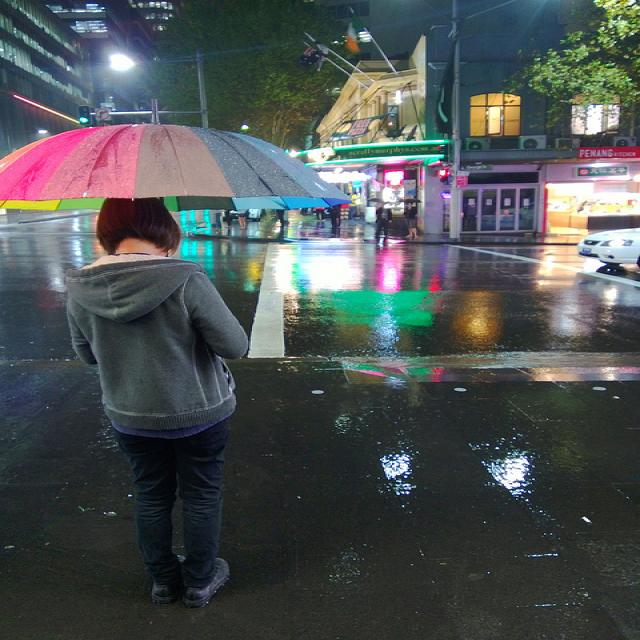Vehicle: (576, 226, 640, 270)
